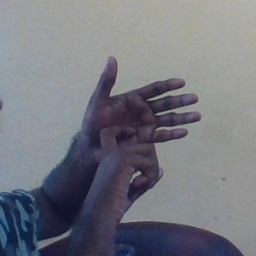R: (80, 53, 200, 193)
